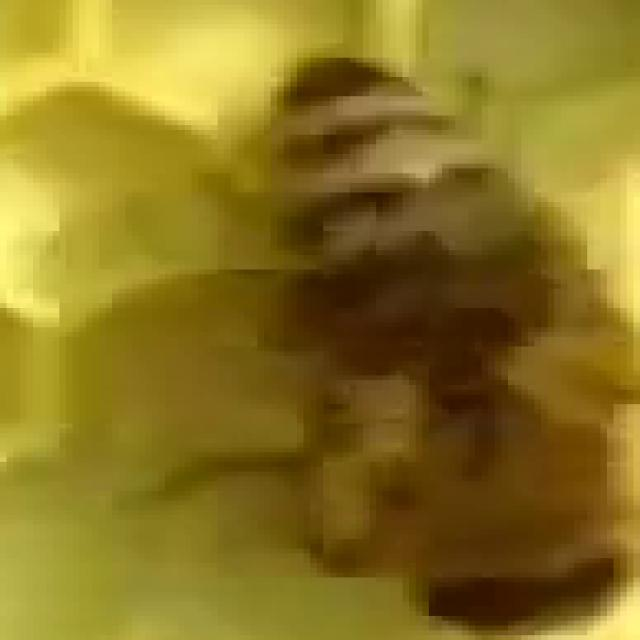honeybee: (170, 52, 619, 616)
